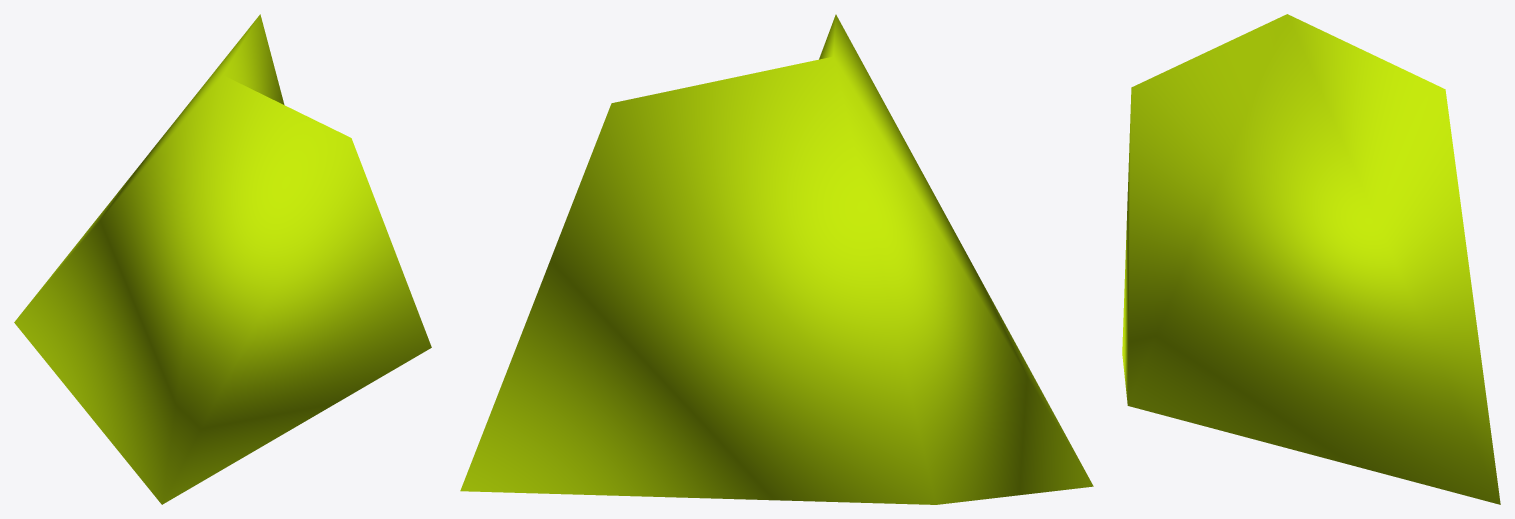
The model's file is rock8.glb.
The picture shows the model from 3 angles, left to right: view 1: azimuth 30°, elevation 25°; view 2: azimuth 150°, elevation 25°; view 3: azimuth 270°, elevation 25°; orthographic projection. The views are drawn at different scales.
Visible parts, largest first — view 1: rock.008; view 2: rock.008; view 3: rock.008.
Part boxes in pixels (bbox=[...]): rock.008: bbox=[14, 14, 431, 504]; rock.008: bbox=[460, 14, 1093, 504]; rock.008: bbox=[1122, 14, 1500, 504].
Size of the model in its own units: 3.66 by 3.58 by 2.95.
